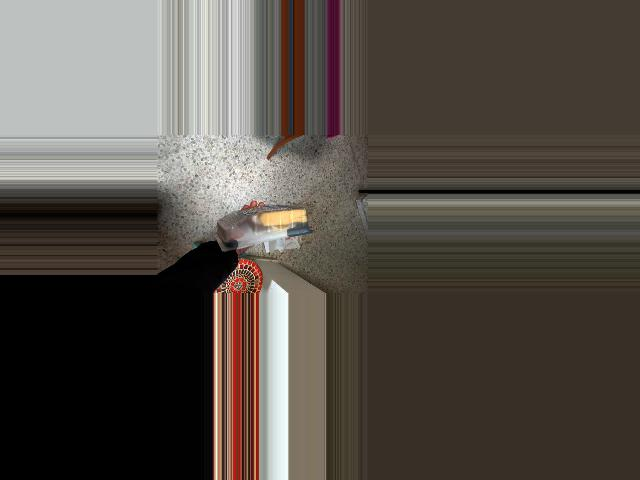cheese: (212, 204, 310, 255)
